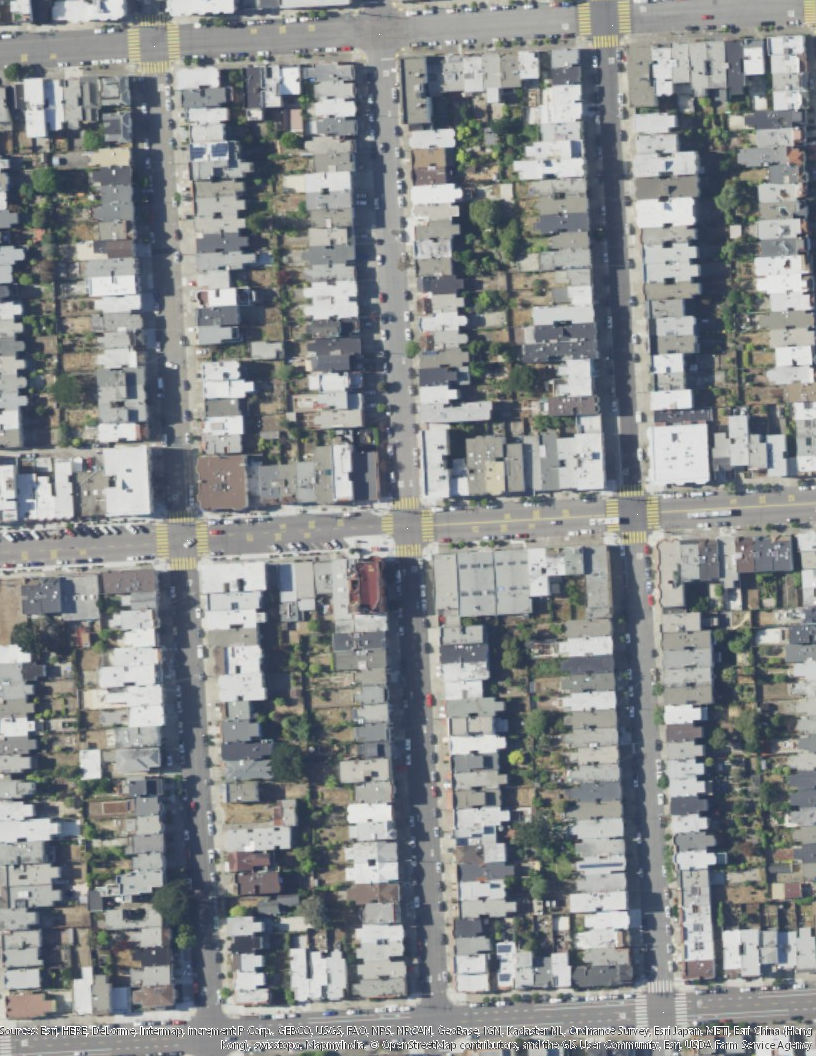zebracross: (574, 1, 591, 35), (604, 497, 620, 532), (616, 1, 632, 35), (646, 496, 661, 530), (194, 520, 208, 556), (127, 29, 141, 63), (156, 523, 169, 559), (393, 543, 424, 558), (421, 508, 434, 543), (168, 510, 198, 525), (674, 992, 687, 1026), (392, 495, 420, 510), (636, 995, 649, 1027), (168, 25, 181, 56), (647, 980, 675, 994), (618, 484, 646, 498), (592, 34, 620, 48), (171, 558, 198, 572), (143, 60, 170, 74), (623, 530, 647, 544), (140, 13, 165, 26), (381, 512, 393, 534), (803, 1, 815, 23)
